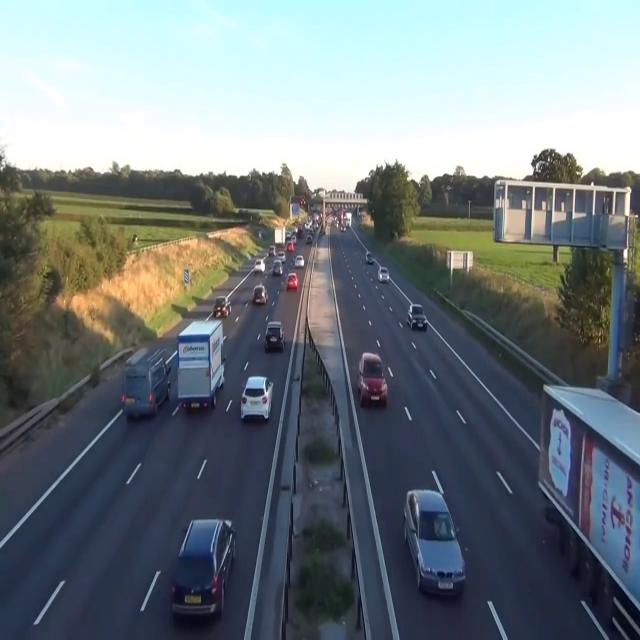belum terisi: (531, 347, 640, 630), (401, 471, 469, 608), (172, 502, 234, 621), (172, 311, 226, 413), (122, 338, 172, 422), (238, 362, 278, 429), (358, 350, 387, 410), (264, 314, 290, 360), (250, 272, 268, 316), (212, 288, 232, 322), (284, 258, 302, 295), (408, 300, 427, 334)
